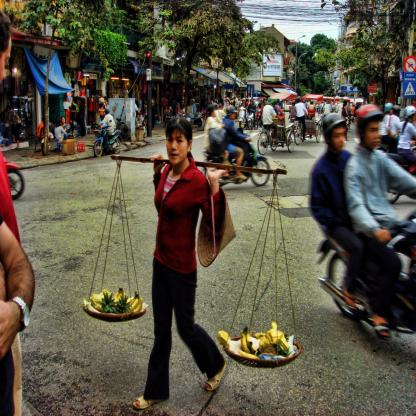Helmet: (362, 103, 392, 152), (322, 112, 345, 156), (406, 102, 416, 122)
